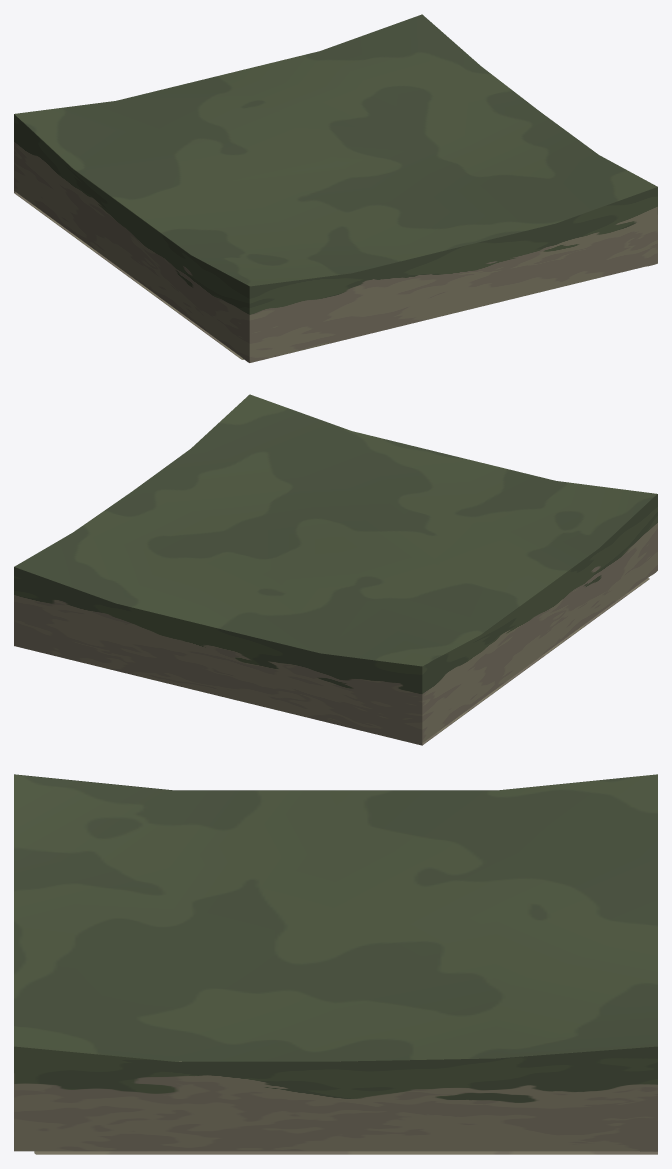
The model's file is GrassTile.fbx.
3 renders of one model, top to bottom at view 1: azimuth 30°, elevation 25°; view 2: azimuth 150°, elevation 25°; view 3: azimuth 270°, elevation 25°, orthographic. The views are drawn at different scales.
Parts seen in each view (by area): view 1: GrasstTile; view 2: GrasstTile; view 3: GrasstTile.
Boxes of the visible parts, bbox=[...] form: GrasstTile: bbox=[14, 14, 657, 362]; GrasstTile: bbox=[14, 394, 657, 745]; GrasstTile: bbox=[14, 774, 657, 1154].
Bounding box in the file's own units: 200 × 37.06 × 200.
Materials: 1 (1 with a texture image).
